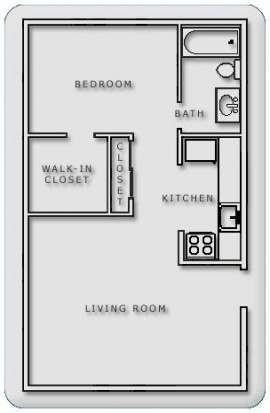room: (24, 213, 242, 385), (23, 20, 179, 131), (21, 126, 133, 216), (176, 129, 246, 269), (180, 23, 243, 137)
wall: (13, 18, 37, 401), (234, 16, 257, 275), (17, 374, 255, 399), (17, 7, 252, 31), (23, 204, 145, 227), (232, 298, 254, 397), (167, 14, 188, 110), (17, 122, 69, 146), (171, 258, 252, 273), (170, 130, 248, 145), (92, 125, 141, 145), (169, 124, 187, 169), (175, 226, 189, 266)
